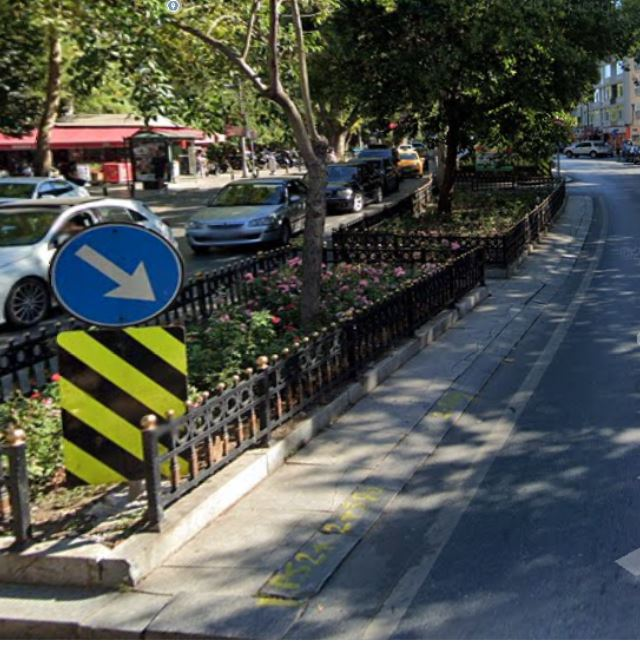Sagdan Git: (46, 224, 189, 325)
